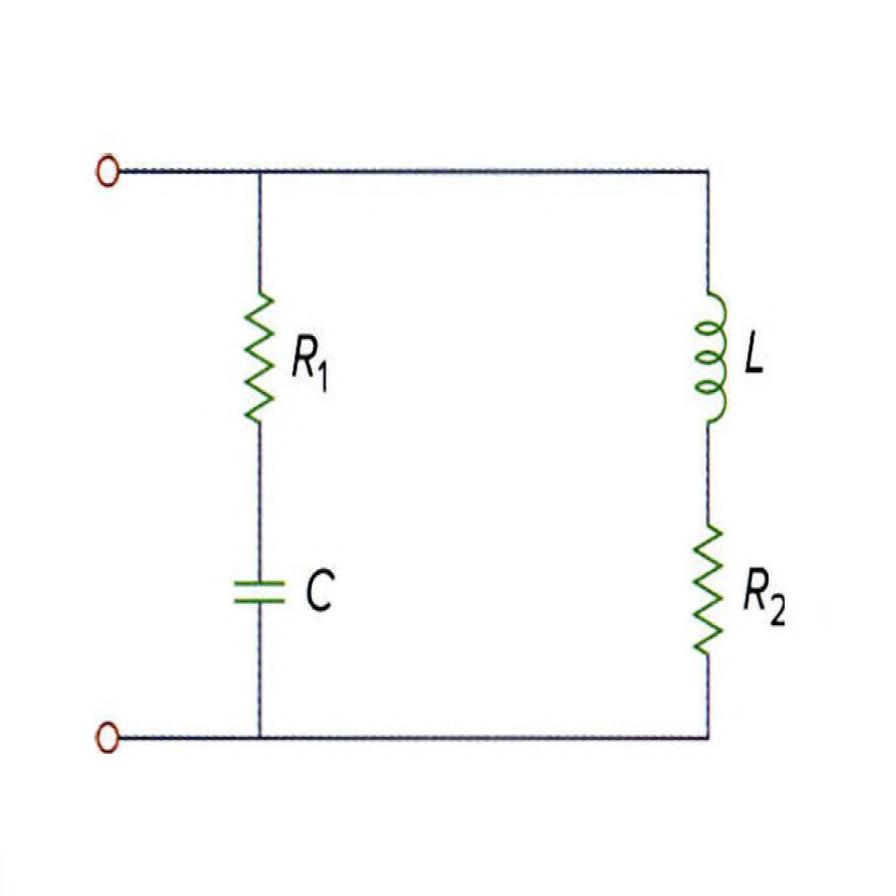C2: (226, 554, 292, 624)
L2: (681, 271, 738, 442)
